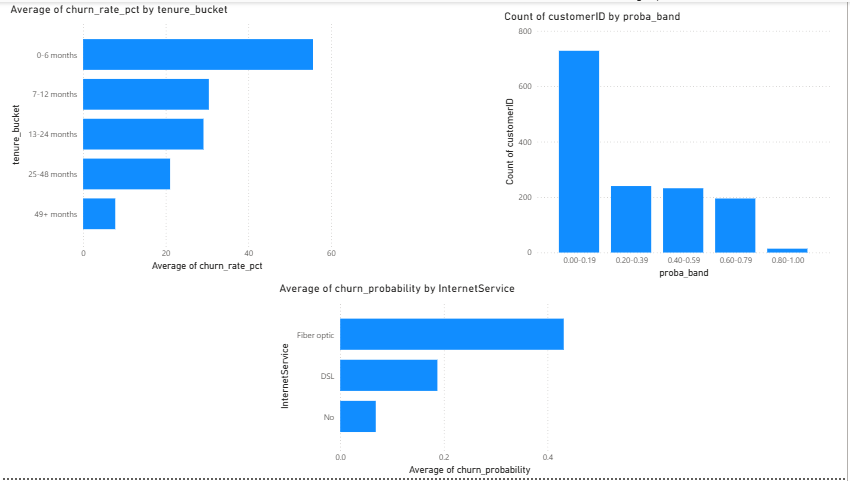

What the dashboard file says about the page in this screenshot:
{"tool":"powerbi","page":{"name":"Churn Drivers","canvas":[1280,720],"ordinal":1},"visuals":[{"type":"barChart","fields":{"Category":["telco_churn v_churn_by_tenure_bucket.tenure_bucket"],"Y":["Avg(telco_churn v_churn_by_tenure_bucket.churn_rate_pct)"]},"box":[10.6,0,501.7,411.1],"z":0},{"type":"barChart","fields":{"Category":["telco_churn v_scored_buckets.InternetService"],"Y":["Avg(telco_churn v_scored_buckets.churn_probability)"]},"box":[417.1,421.6,501.7,297.7],"z":1000},{"type":"columnChart","fields":{"Category":["telco_churn v_scored_buckets.proba_band"],"Y":["CountNonNull(telco_churn v_scored_buckets.customerID)"]},"box":[757.1,10.6,501.7,411.1],"z":2000}]}

Visuals, with their boxes in screenshot pixels (x1, y1, x2, y2), scaled from the page's 1280x720 canvas onto the 850x481 screenshot:
barChart - telco_churn v_churn_by_tenure_bucket.tenure_bucket x Avg(telco_churn v_churn_by_tenure_bucket.churn_rate_pct): x1=7 y1=0 x2=340 y2=275
barChart - telco_churn v_scored_buckets.InternetService x Avg(telco_churn v_scored_buckets.churn_probability): x1=277 y1=282 x2=610 y2=480
columnChart - telco_churn v_scored_buckets.proba_band x CountNonNull(telco_churn v_scored_buckets.customerID): x1=503 y1=7 x2=836 y2=282
